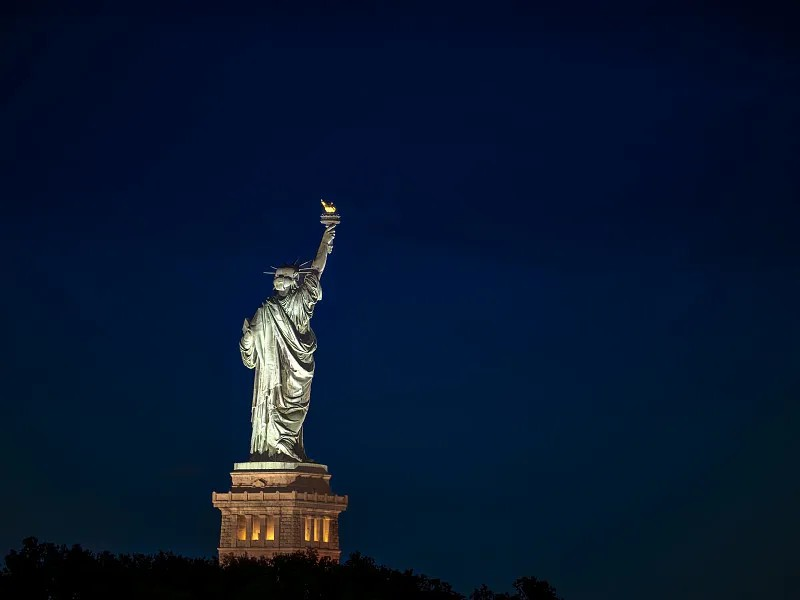SL: (212, 198, 348, 566)
